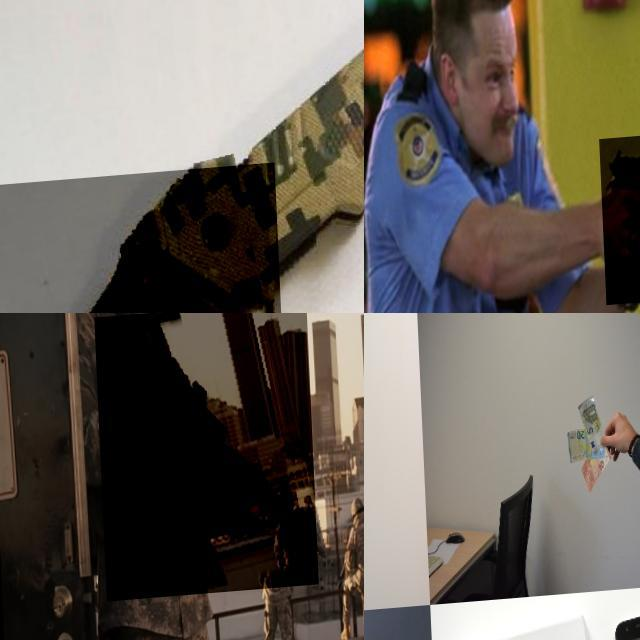-: (0, 168, 285, 313)
gun-knife-thesis - v11 Yolov5 augmented: (92, 313, 314, 603), (596, 137, 640, 310)
